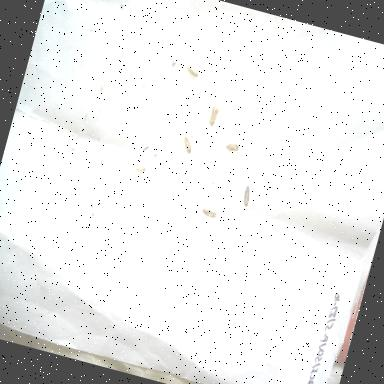pbw: (237, 182, 256, 214), (196, 203, 223, 225), (206, 98, 222, 130), (178, 131, 196, 155), (183, 60, 202, 79), (224, 140, 243, 156), (129, 161, 148, 175)
